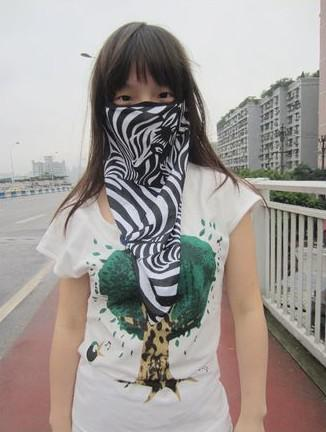OK: (110, 89, 190, 169)
